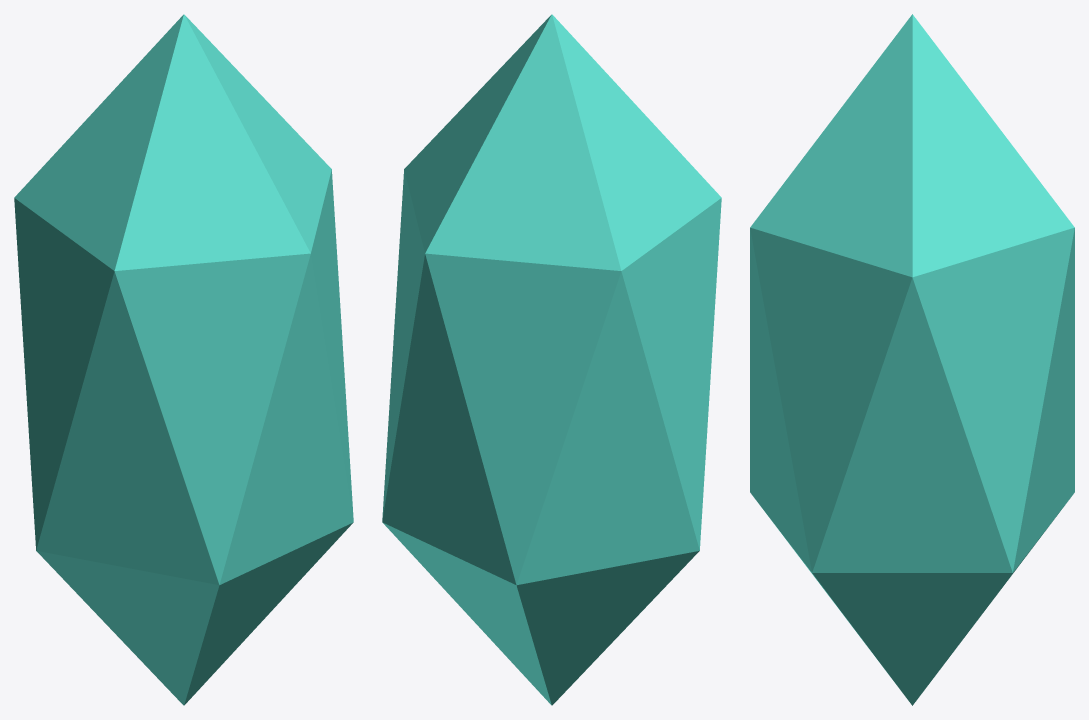
The model's file is scale.glb.
3 views of the same model, side by side, from view 1: azimuth 30°, elevation 25°; view 2: azimuth 150°, elevation 25°; view 3: azimuth 270°, elevation 25° (orthographic).
Visible parts, largest first — view 1: Crystal Lizard Scale; view 2: Crystal Lizard Scale; view 3: Crystal Lizard Scale.
Part boxes in pixels (left/top/right/bottom): Crystal Lizard Scale: left=14, top=14, right=353, bottom=705; Crystal Lizard Scale: left=382, top=14, right=721, bottom=705; Crystal Lizard Scale: left=750, top=14, right=1074, bottom=705.
Size of the model in its own units: 0.3757 by 0.84 by 0.3573.
